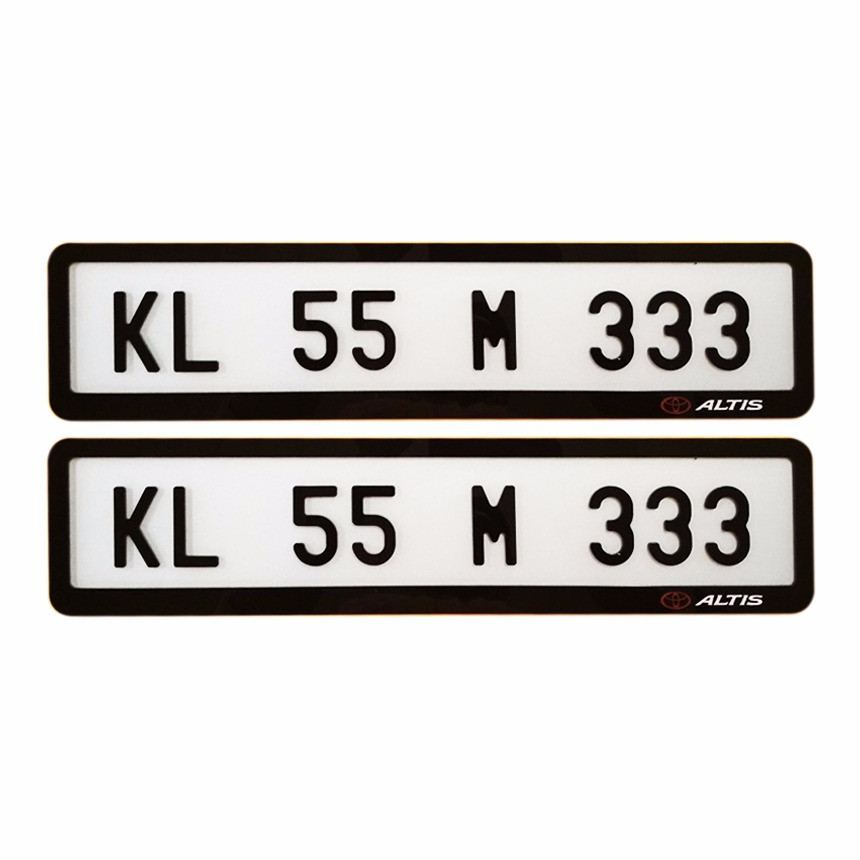number_plate: (45, 237, 819, 425), (45, 436, 815, 622)
